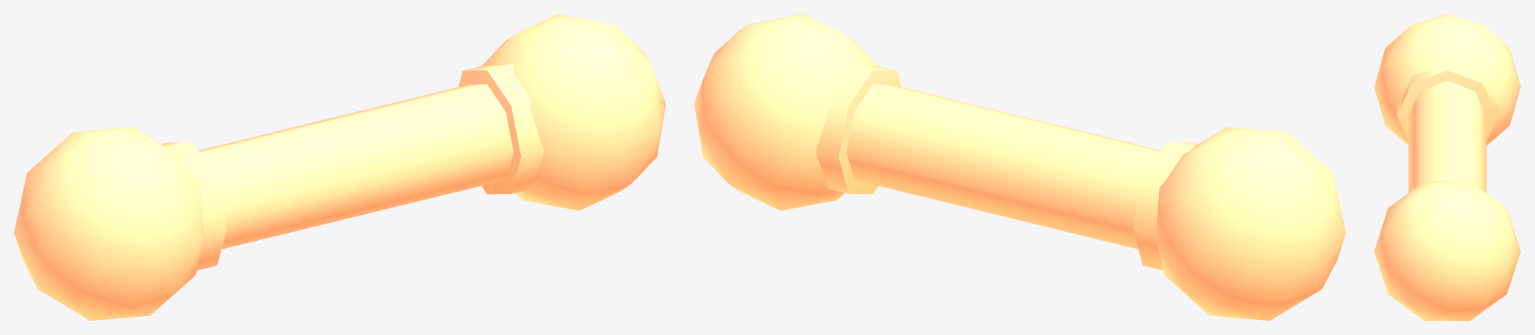
File: wood_guard_066_004.glb
3 views of the same model, side by side, from view 1: azimuth 30°, elevation 25°; view 2: azimuth 150°, elevation 25°; view 3: azimuth 270°, elevation 25° (orthographic). The views are drawn at different scales.
Parts seen in each view (by area): view 1: wood_guard_066.004; view 2: wood_guard_066.004; view 3: wood_guard_066.004.
Boxes of the visible parts, x1=… form: wood_guard_066.004: x1=14, y1=14, x2=665, y2=320; wood_guard_066.004: x1=694, y1=14, x2=1345, y2=320; wood_guard_066.004: x1=1374, y1=14, x2=1520, y2=320.
Bounding box in the file's own units: 7.5 × 2.08 × 2.08.
1 material, 1 textured.
